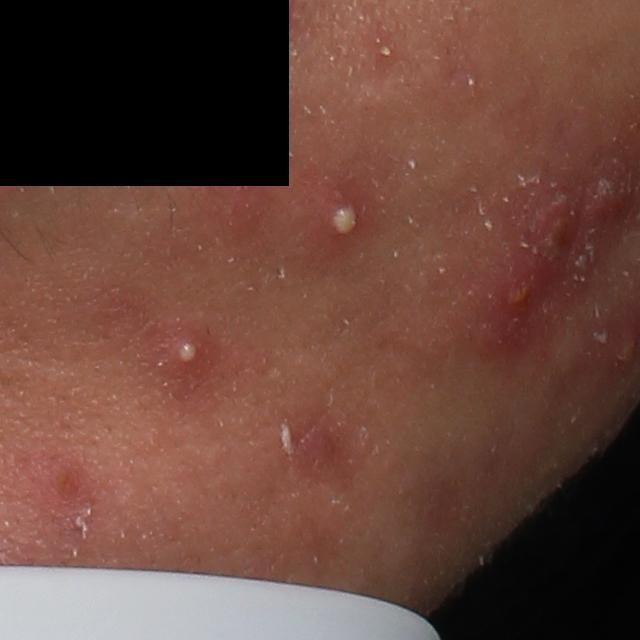papule: (524, 192, 580, 267), (216, 169, 274, 237), (582, 174, 635, 222)
pustule: (303, 178, 379, 249), (493, 258, 546, 331), (162, 324, 221, 383)
